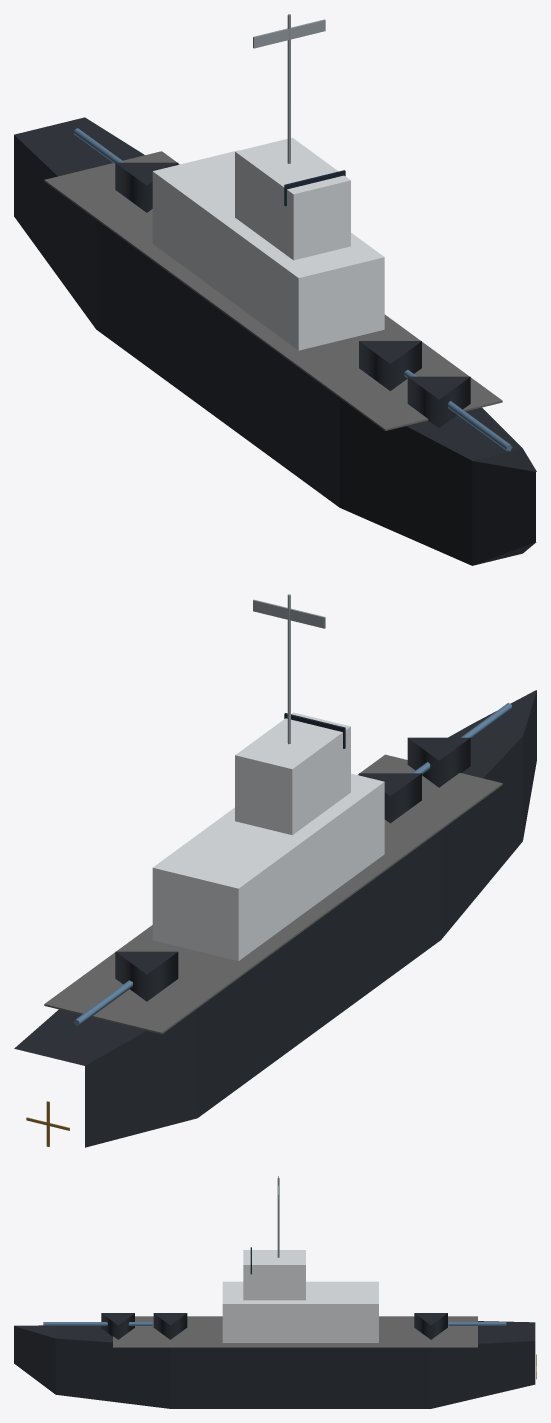
The model's file is veh_naval_warship_a09_lod2.glb.
3 views of the same model, one above another, from view 1: azimuth 30°, elevation 25°; view 2: azimuth 150°, elevation 25°; view 3: azimuth 270°, elevation 25° (orthographic). The views are drawn at different scales.
Parts seen in each view (by area): view 1: body, turret_0, turret_1, turret_2, radar; view 2: body, turret_2, turret_0, turret_1, radar; view 3: body, turret_2, turret_0, turret_1.
Boxes of the visible parts, x1,y1,x2,y2 form: body: (14, 14, 536, 565); turret_0: (407, 376, 512, 450); turret_1: (359, 341, 460, 411); turret_2: (74, 128, 178, 212); radar: (253, 19, 325, 48); body: (14, 594, 536, 1147); turret_2: (73, 951, 178, 1025); turret_0: (407, 703, 511, 787); turret_1: (359, 762, 430, 823); radar: (253, 599, 325, 628); body: (14, 1177, 535, 1408); turret_2: (414, 1313, 506, 1339); turret_0: (43, 1313, 134, 1339); turret_1: (97, 1313, 187, 1339).
Size of the model in its own units: 5.58 by 18.44 by 40.15.
